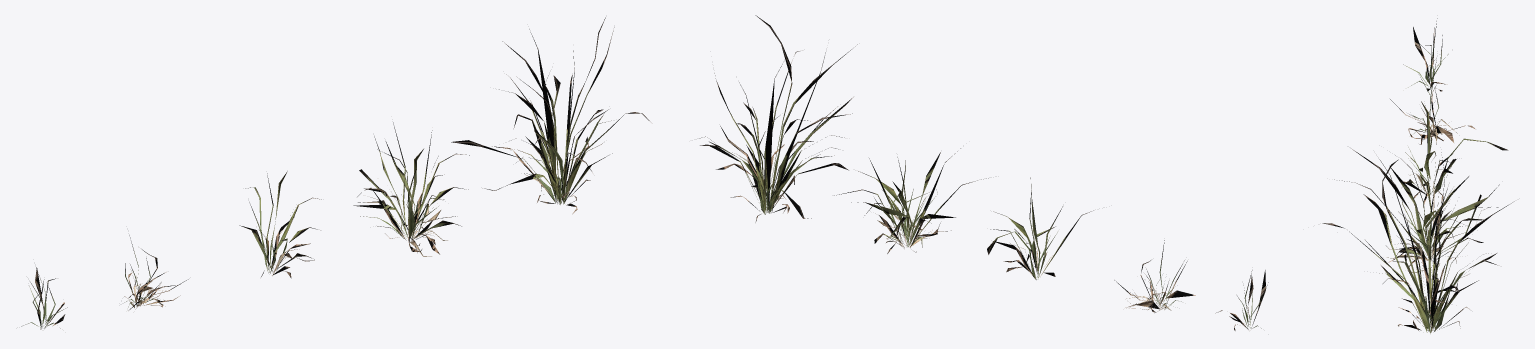
Rendered from grass-medium-02.glb.
3 views of the same model, side by side, from view 1: azimuth 30°, elevation 25°; view 2: azimuth 150°, elevation 25°; view 3: azimuth 270°, elevation 25° (orthographic). The views are drawn at different scales.
Parts seen in each view (by area): view 1: grass_medium_02_a; view 2: grass_medium_02_a; view 3: grass_medium_02_a.
Part boxes in pixels (x1,y1,x2,y2): grass_medium_02_a: [21, 17, 652, 329]; grass_medium_02_a: [699, 15, 1268, 330]; grass_medium_02_a: [1322, 18, 1514, 333].
Size of the model in its own units: 1.29 by 0.4038 by 0.4318.
1 material, 1 textured.
